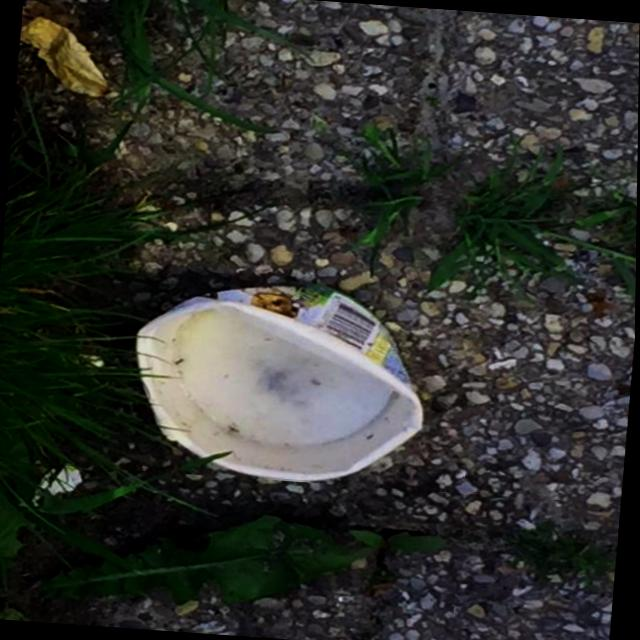Paper: (122, 270, 437, 493)
